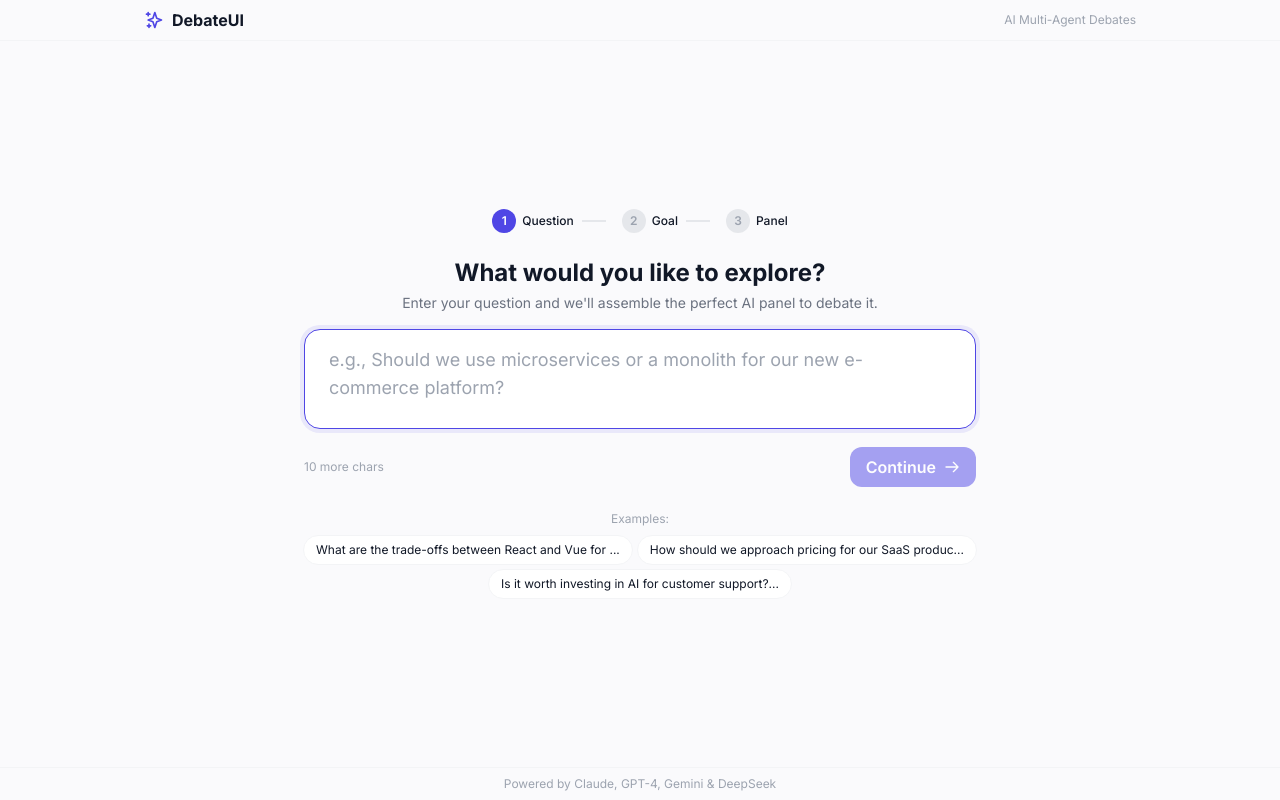
Test: App › Goal Step › allows going back to question step
# Enter question and advance
Type "This is a test question that is long enough" into the text box with placeholder "microservices or a monolith" at (640, 379), box x1=304 y1=329 x2=976 y2=429
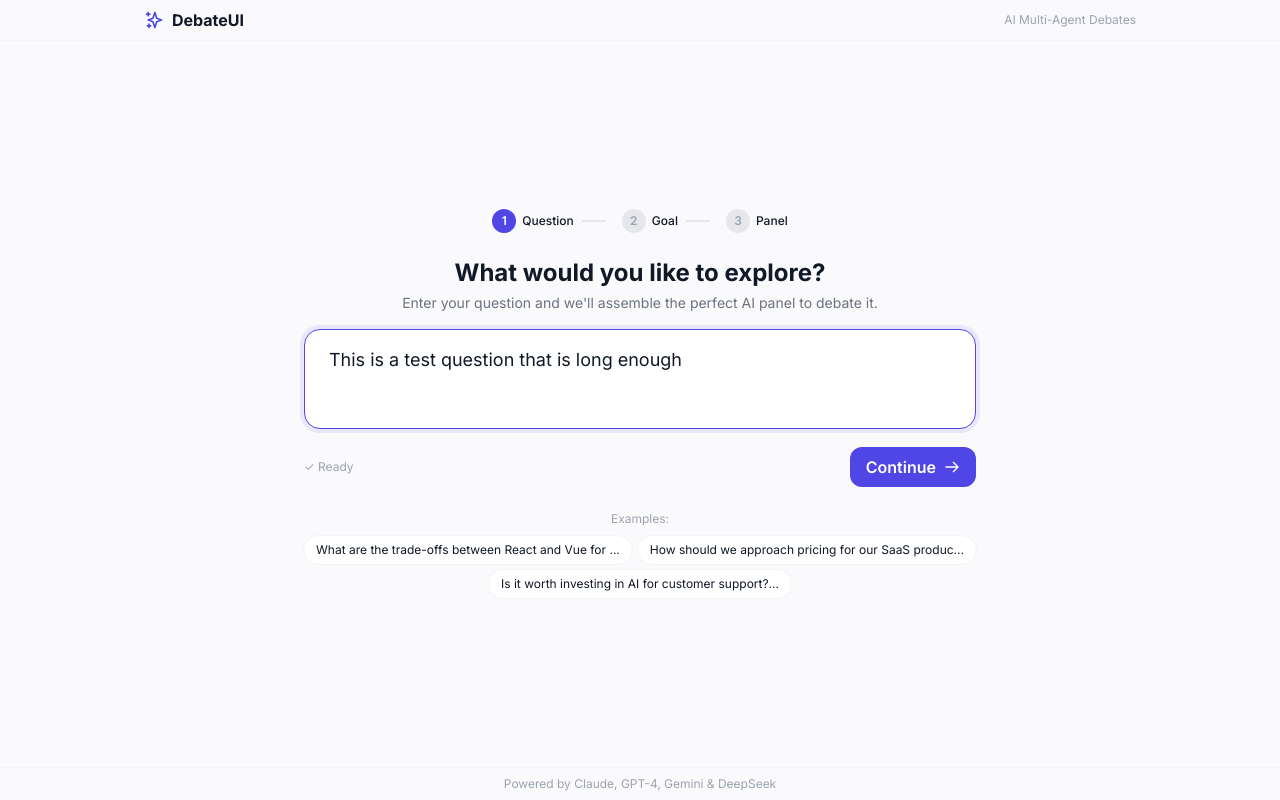
Click the button "Continue" at (913, 467), box x1=850 y1=447 x2=976 y2=487
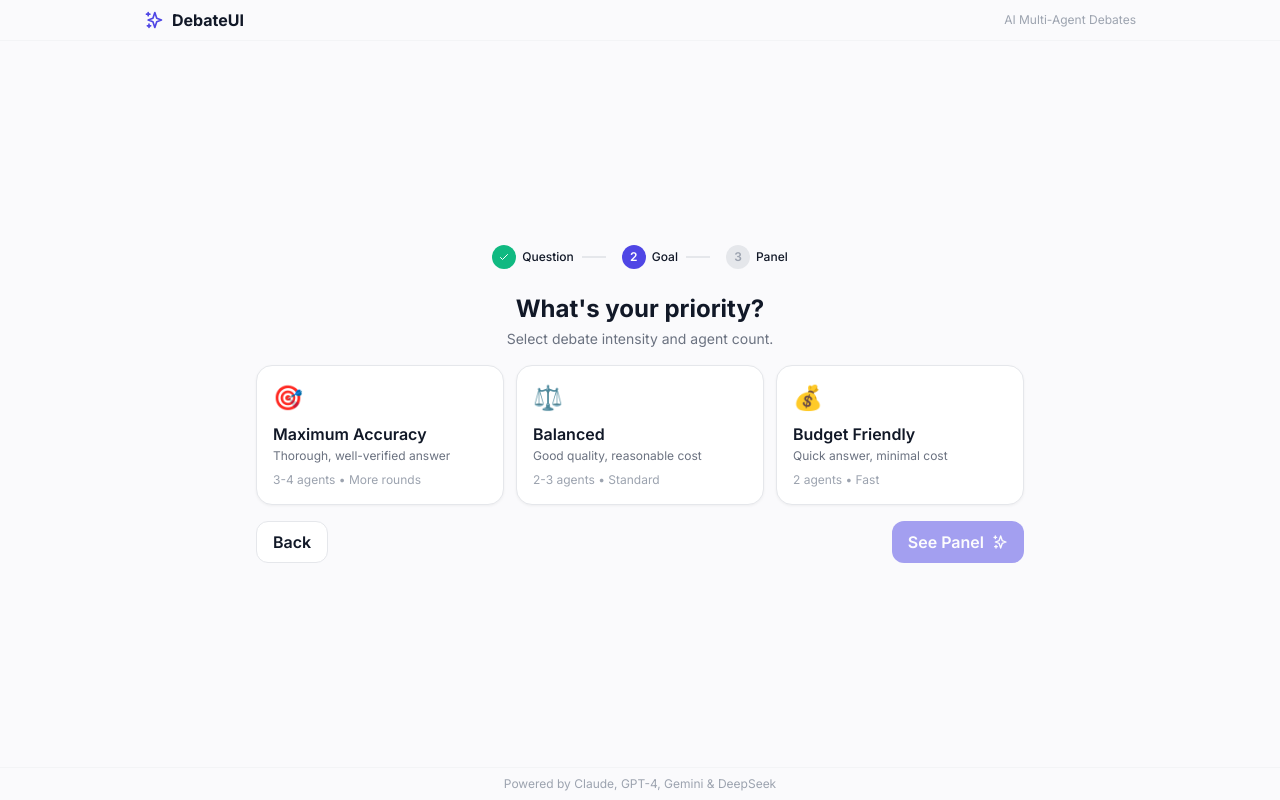
# Click back
Click the button "Back" at (292, 542), box x1=256 y1=521 x2=328 y2=563
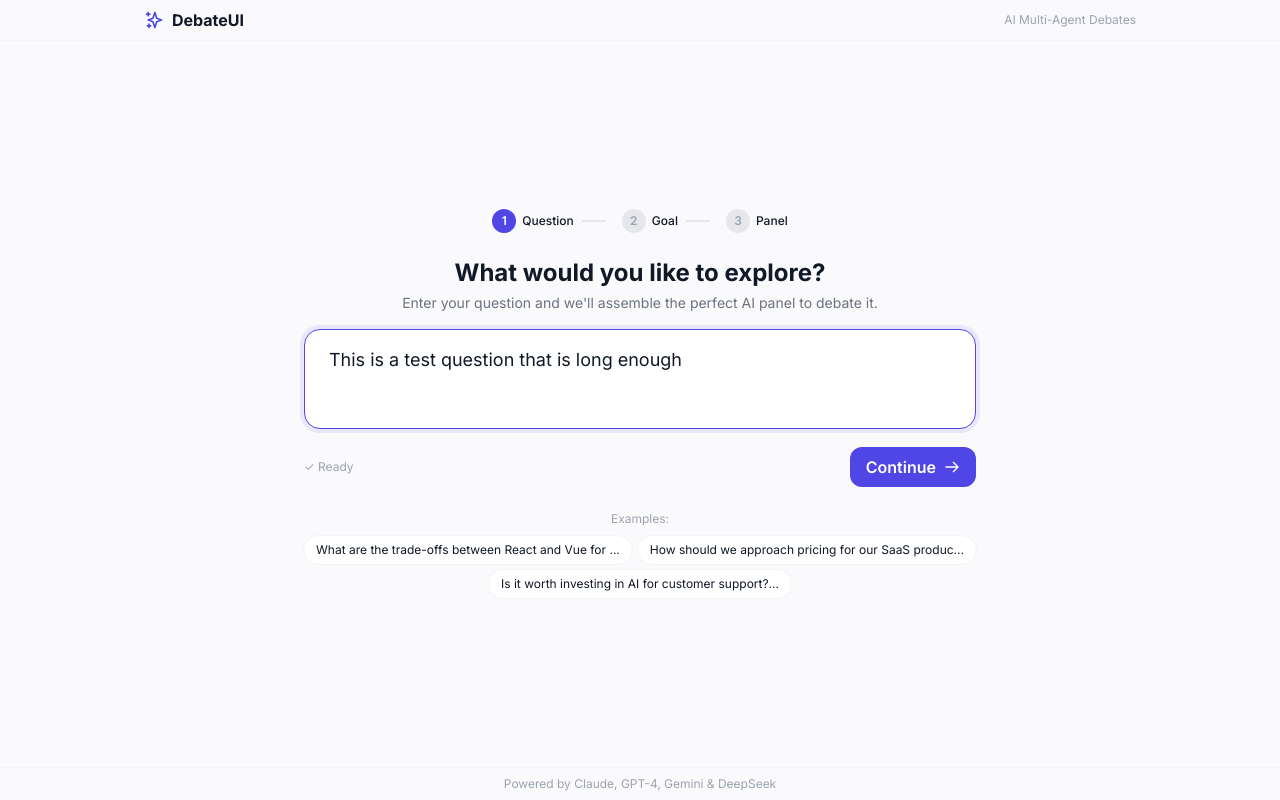
Now the heading "What would you like to explore?" is shown, box x1=454 y1=258 x2=826 y2=287
